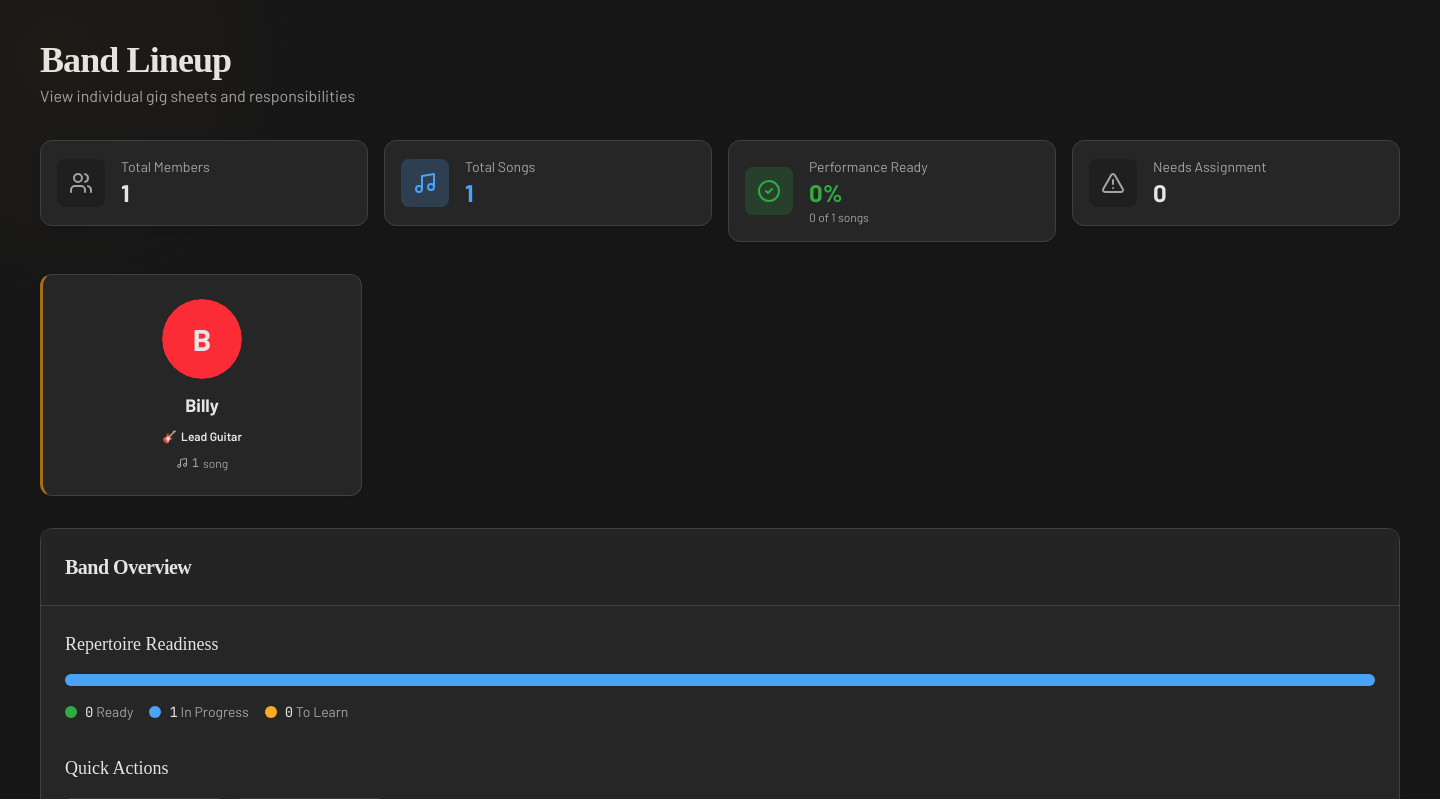
Scenario: BandDashboard › gig sheet detail › shows song cards with roles
This screenshot has width=1440, height=799.
# Click on Billy's card
Click the button with aria-label "Select Billy": (202, 339) [40,274,362,496]
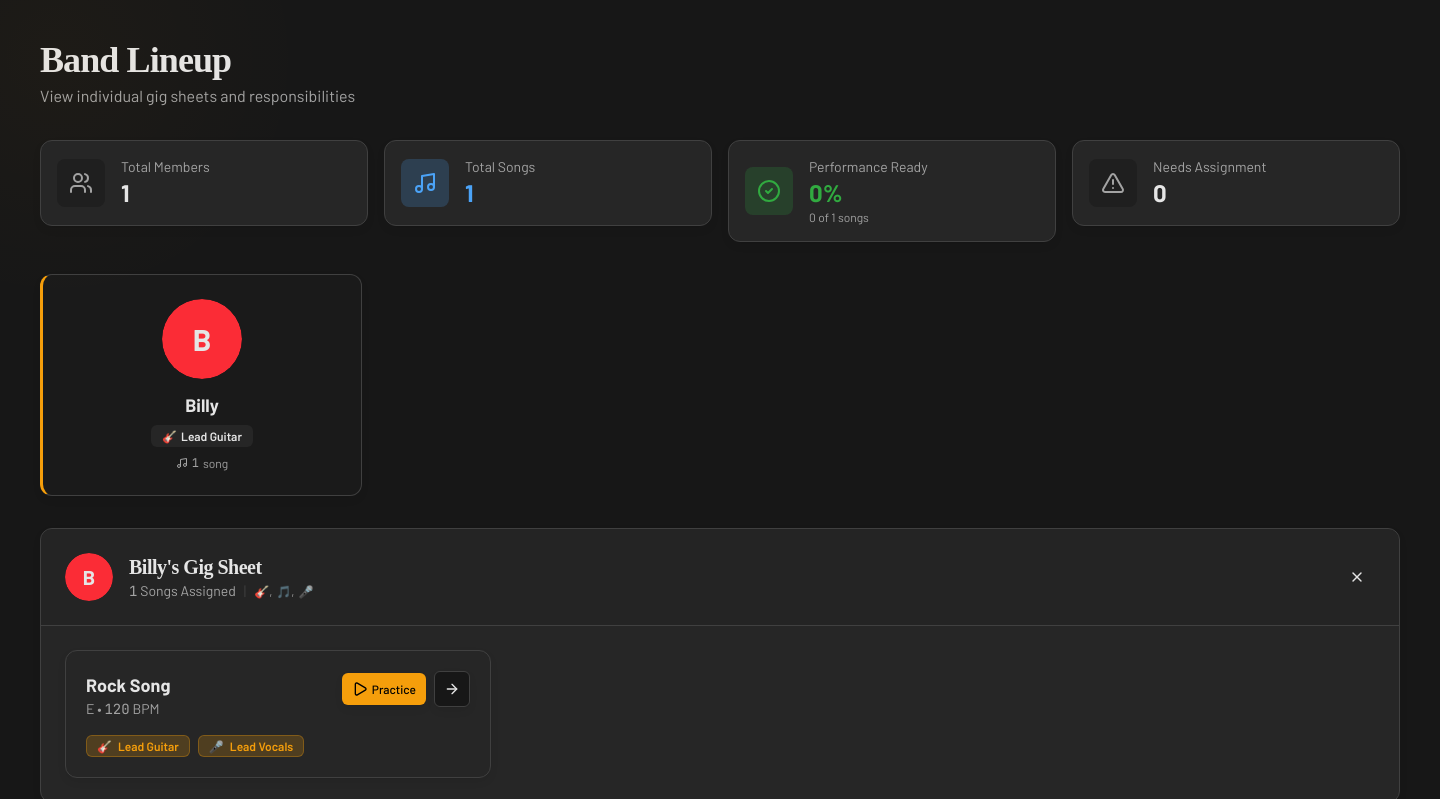
Now the heading "Rock Song" is shown, box [86,674,170,696]
Now the text "E • 120 BPM" is shown, box [86,700,160,718]
Now the text "120" is shown, box [104,700,130,718]
